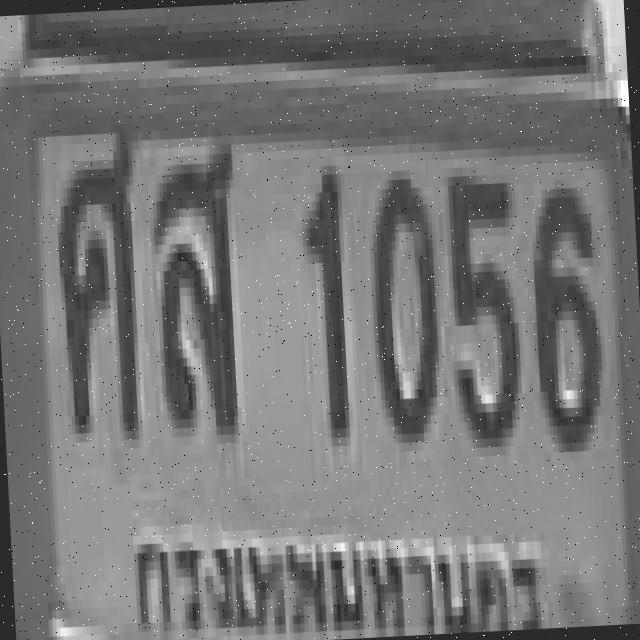0: (364, 161, 437, 436)
1: (298, 156, 351, 438)
47SorSala: (50, 133, 146, 434)
49SorSuea: (146, 136, 242, 429)
5: (444, 165, 521, 440)
6: (526, 178, 602, 444)
Bangkok: (116, 487, 548, 640)
